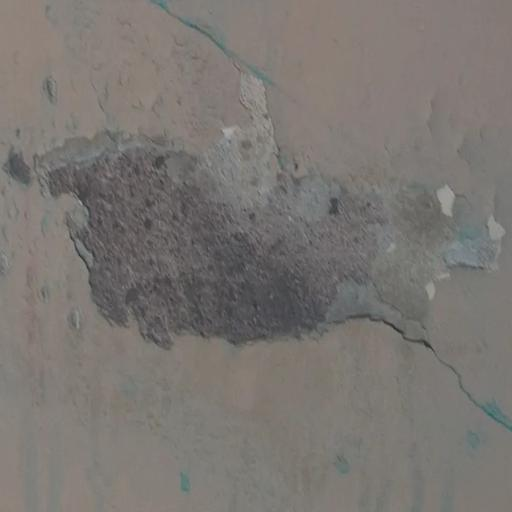peeling: (11, 64, 512, 463)
